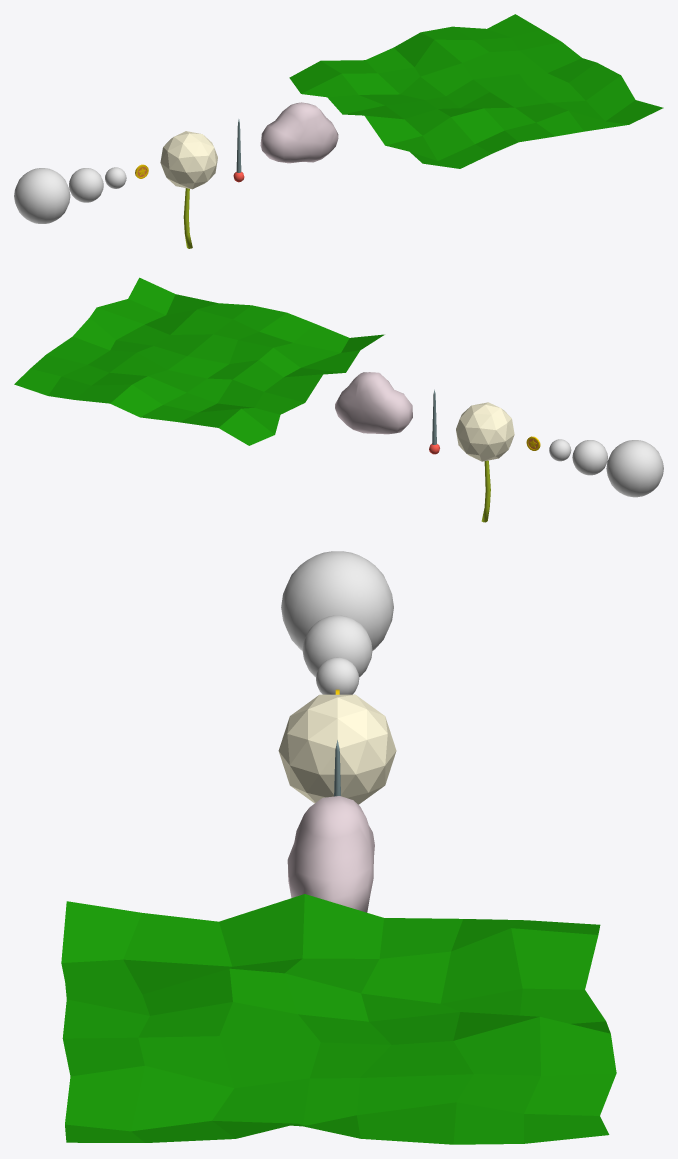
Rendered from Pinandbubble_Assets.fbx.
The picture shows the model from 3 angles, top to bottom: view 1: azimuth 30°, elevation 25°; view 2: azimuth 150°, elevation 25°; view 3: azimuth 270°, elevation 25°; orthographic projection. The views are drawn at different scales.
Visible parts, largest first — view 1: Land, Cloud, Flower, Bubbl_big, Bubble_midle, Bubble_smal; view 2: Land, Cloud, Flower, Bubbl_big, Bubble_midle, Bubble_smal; view 3: Land, Flower, Cloud, Bubbl_big, Bubble_midle, Bubble_smal.
Part boxes in pixels (x1=…): Land: x1=289, y1=14, x2=663, y2=168; Cloud: x1=260, y1=102, x2=338, y2=163; Flower: x1=160, y1=131, x2=217, y2=248; Bubbl_big: x1=14, y1=168, x2=70, y2=223; Bubble_midle: x1=69, y1=168, x2=103, y2=202; Bubble_smal: x1=105, y1=167, x2=126, y2=188; Land: x1=14, y1=277, x2=384, y2=445; Cloud: x1=335, y1=372, x2=412, y2=434; Flower: x1=456, y1=402, x2=514, y2=522; Bubbl_big: x1=606, y1=440, x2=663, y2=497; Bubble_midle: x1=572, y1=440, x2=607, y2=475; Bubble_smal: x1=549, y1=439, x2=571, y2=461; Land: x1=61, y1=894, x2=616, y2=1144; Flower: x1=278, y1=694, x2=396, y2=804; Cloud: x1=287, y1=796, x2=374, y2=912; Bubbl_big: x1=281, y1=551, x2=393, y2=650; Bubble_midle: x1=302, y1=615, x2=372, y2=677; Bubble_smal: x1=316, y1=657, x2=359, y2=694.
Size of the model in its own units: 2263 by 440 by 941.
